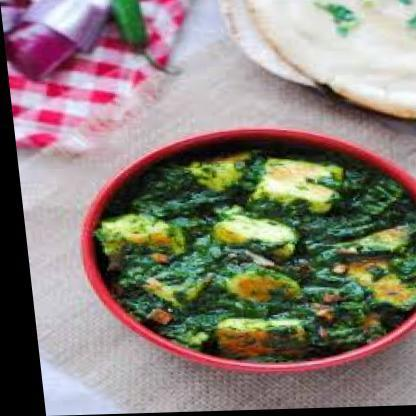palak_paneer: (82, 147, 416, 370)
